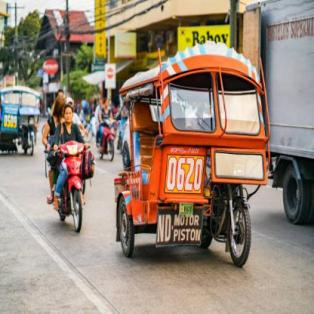Motocicleta: (44, 140, 94, 238)
